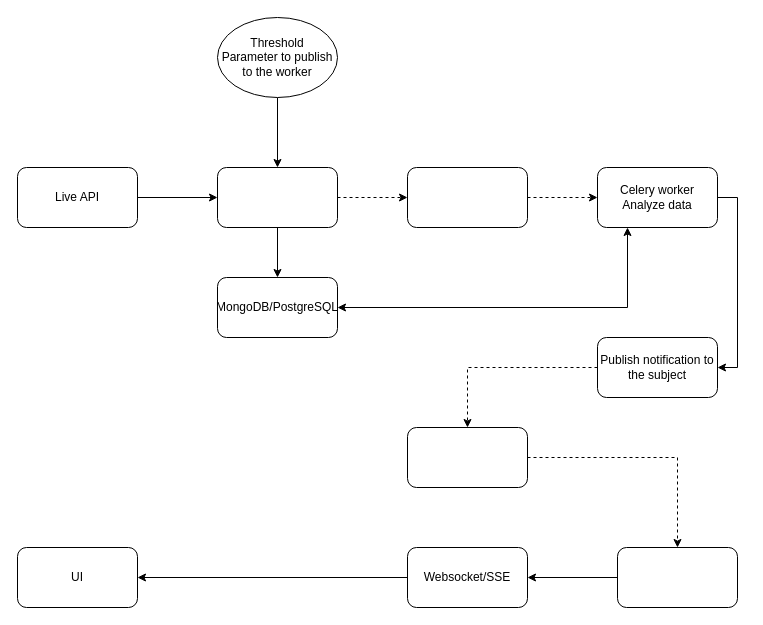
This 763x625 diagram has some shape labels left out. Here are the shapes that lost their labels. From the top down, the centre of each, then its label:
At point 277,197: "Celery beat".
At point 467,197: "Redis broker".
At point 467,457: "Redis pub/sub".
At point 677,577: "Notification service/Redis Listener".
